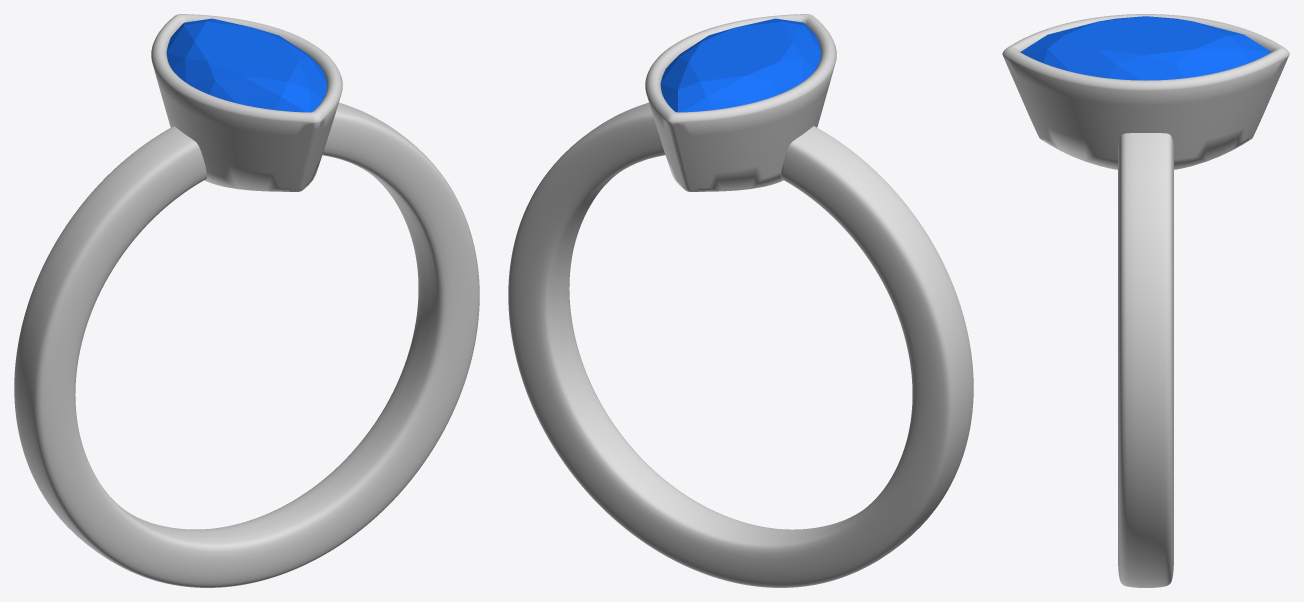
Rendered from bluesapphire-marquise-platinum-bezelset-straightband-nosidestones.glb.
The picture shows the model from 3 angles, left to right: view 1: azimuth 30°, elevation 25°; view 2: azimuth 150°, elevation 25°; view 3: azimuth 270°, elevation 25°; orthographic projection.
Visible parts, largest first — view 1: metal.002, stone; view 2: metal.002, stone; view 3: metal.002, stone.
Part boxes in pixels (x1,y1,x2,y2): metal.002: (14, 14, 479, 587); stone: (166, 18, 327, 112); metal.002: (508, 14, 973, 587); stone: (660, 18, 821, 112); metal.002: (1002, 14, 1289, 587); stone: (1020, 16, 1271, 80).
Size of the model in its own units: 20.49 by 22.93 by 11.31.
